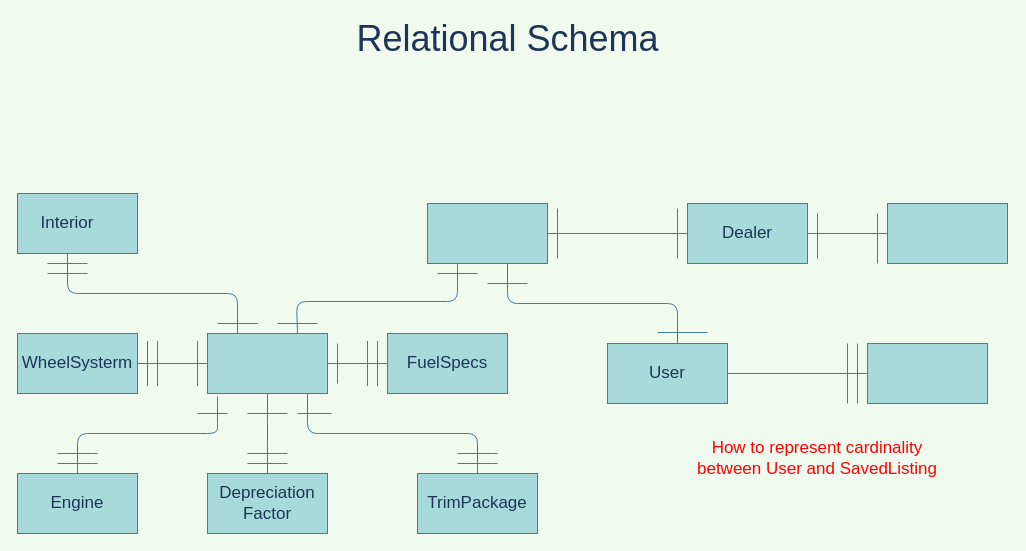
This 1026x551 diagram has some shape labels left out. Here are the shapes that lost their labels. From the top down, the centre of each, then its label:
point 487,233: Listing
point 947,233: Dealer_Address
point 267,363: Car
point 927,373: SavedListing
